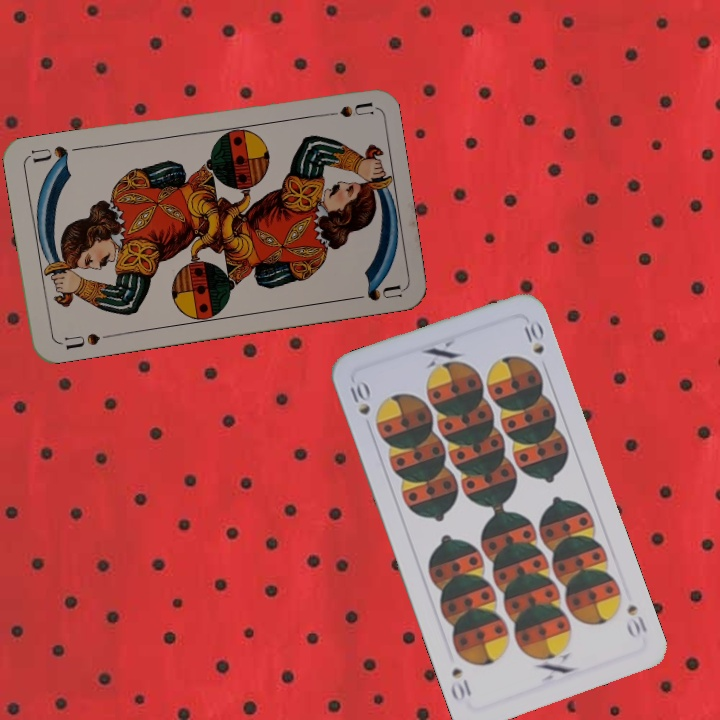S10: (344, 377, 373, 418), (623, 600, 650, 641)
SU: (55, 329, 115, 352), (314, 98, 374, 120)
